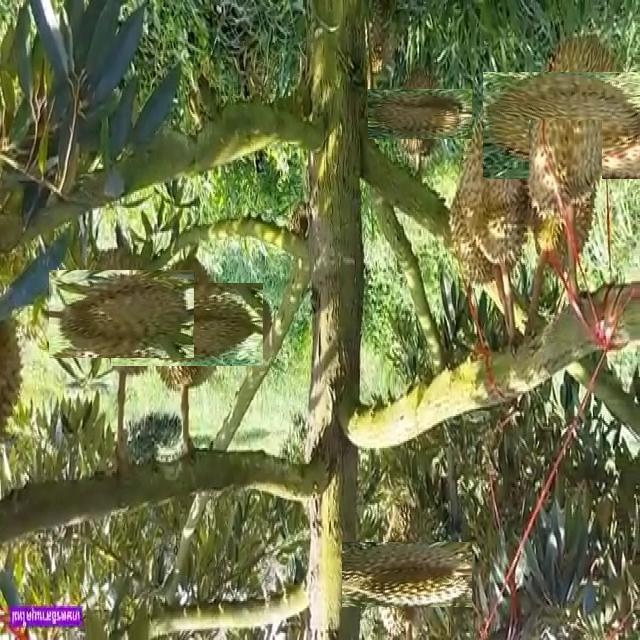durian: (504, 51, 640, 201), (128, 266, 246, 383), (63, 256, 181, 372), (456, 107, 530, 267), (529, 120, 602, 282), (446, 162, 526, 290), (358, 526, 456, 624), (381, 75, 458, 153), (232, 295, 277, 369)
